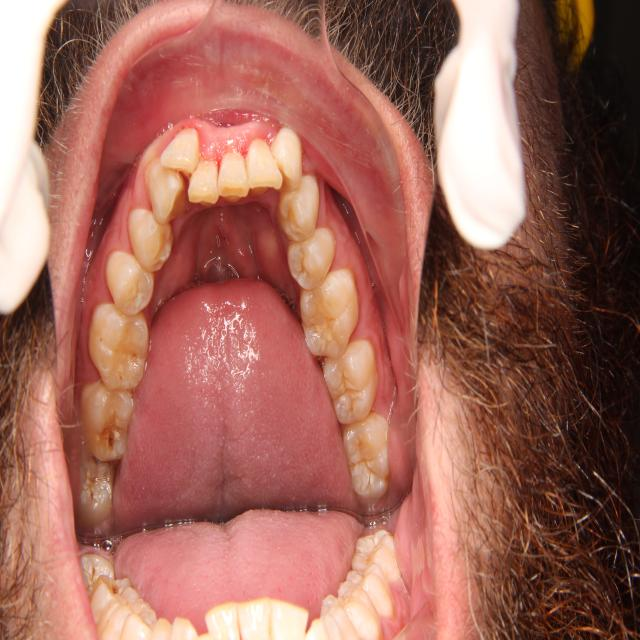tooth: (87, 295, 154, 394), (73, 372, 142, 468), (295, 268, 364, 363), (340, 408, 394, 511), (320, 335, 381, 424), (71, 440, 122, 538), (283, 224, 338, 295), (139, 153, 191, 228), (103, 247, 158, 317), (125, 204, 178, 275), (274, 166, 322, 243), (267, 116, 311, 195), (158, 123, 205, 181), (242, 135, 284, 199), (184, 153, 225, 214), (215, 142, 251, 205)
